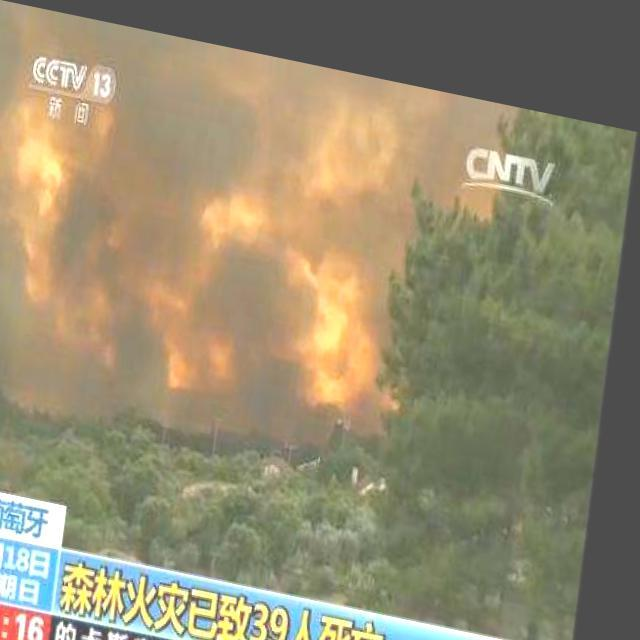Fire: (0, 90, 418, 412)
